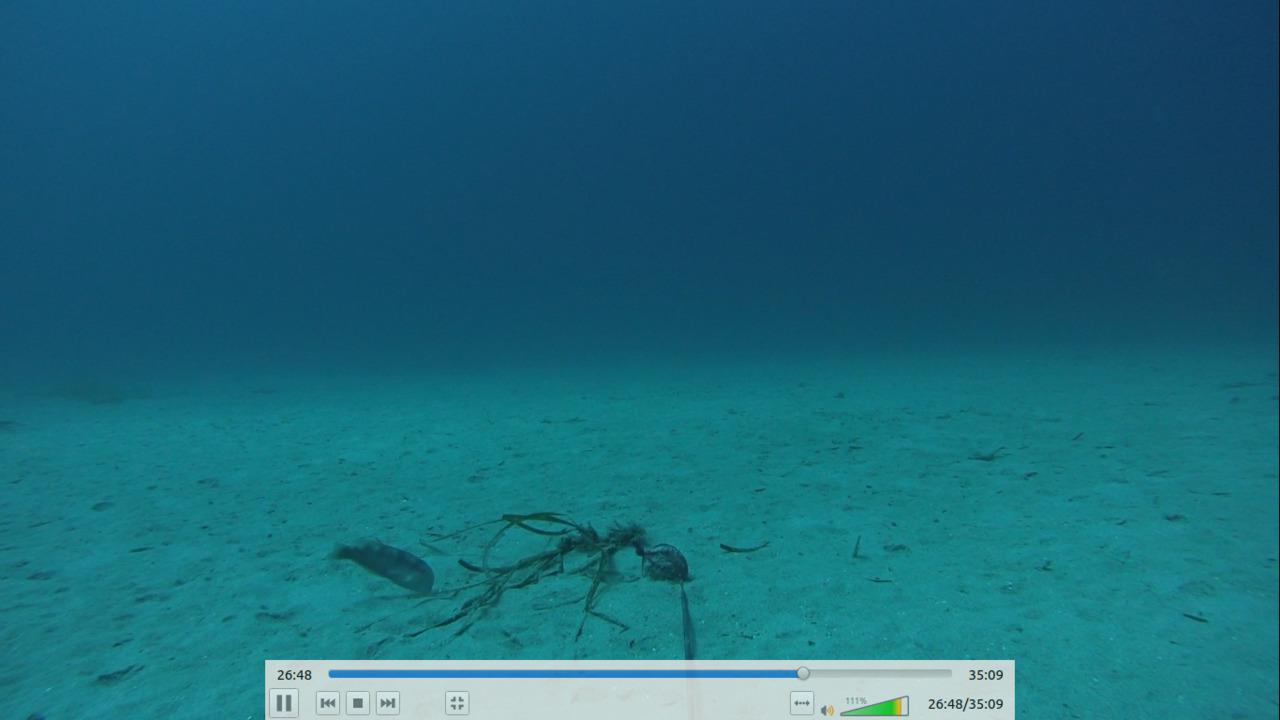raor: (324, 536, 438, 599)
